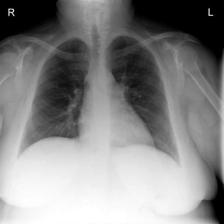normal: (12, 33, 192, 170)
